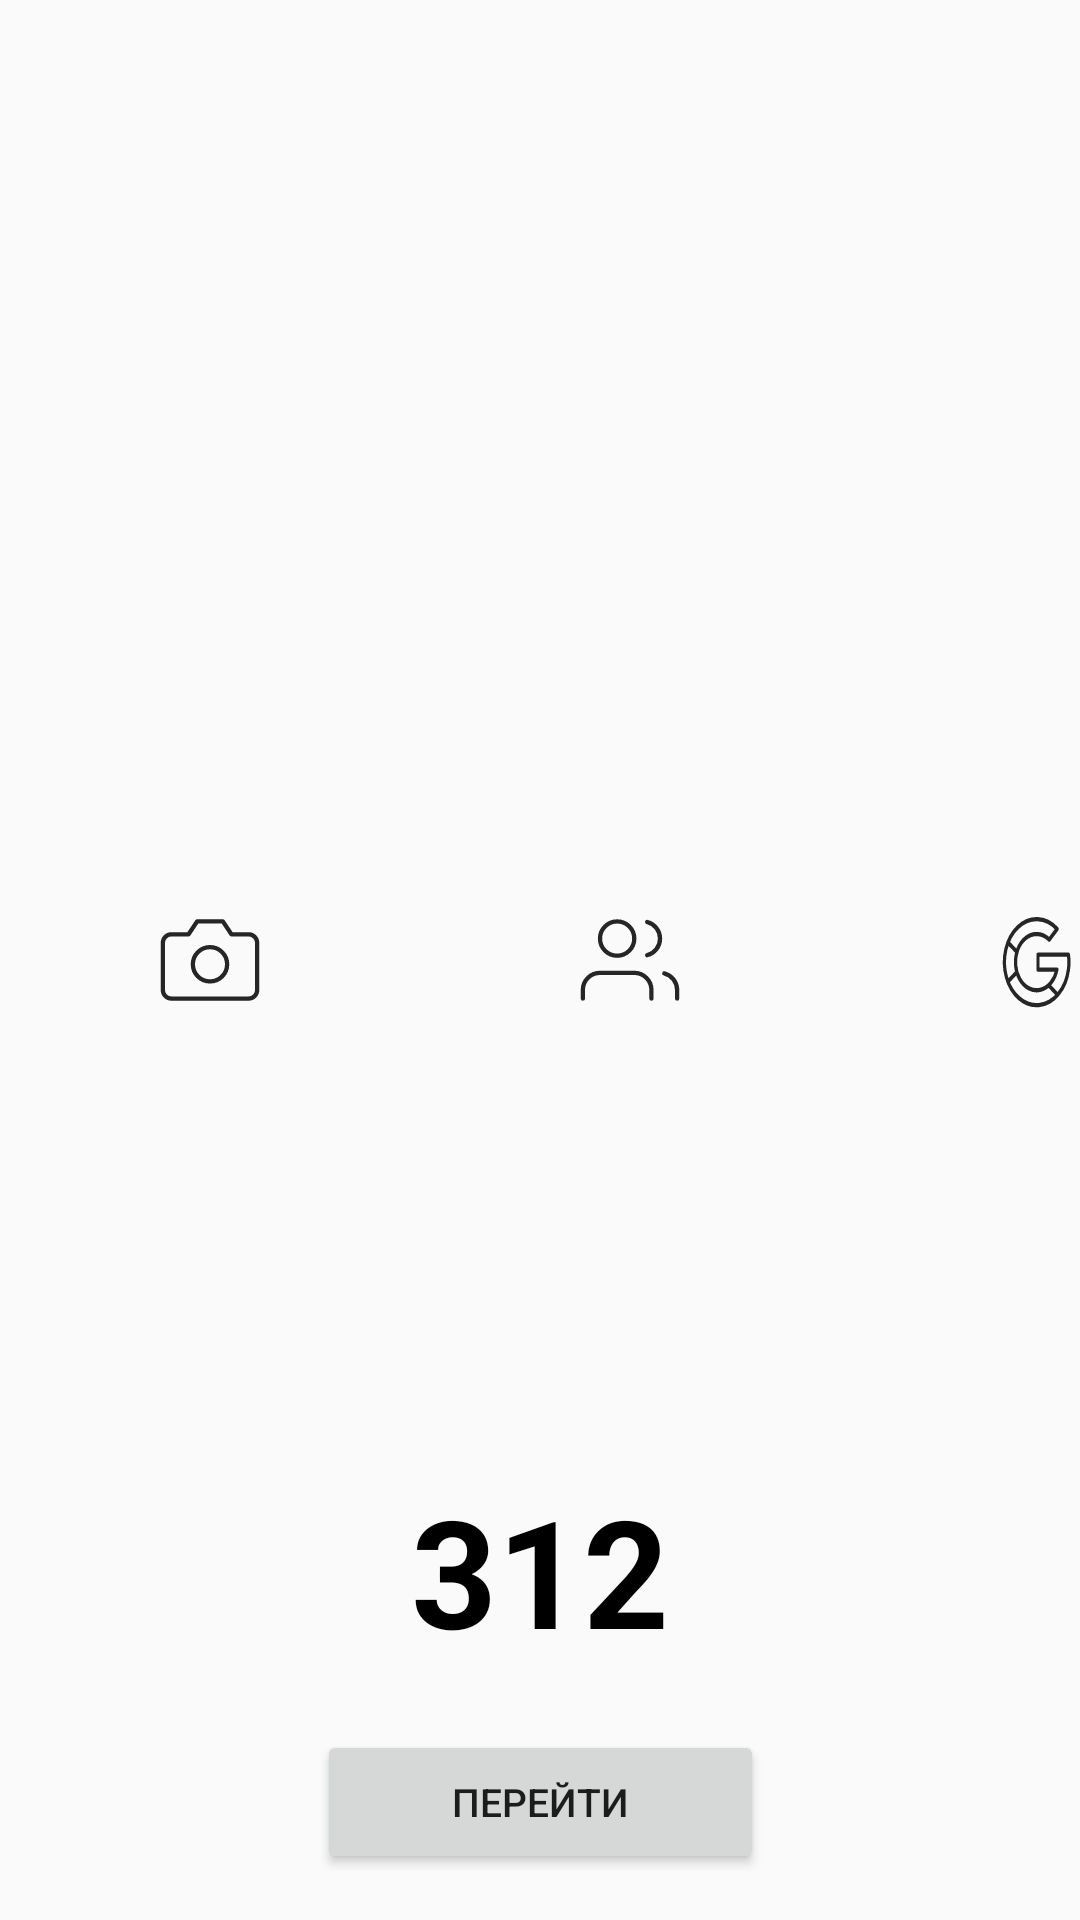

Where icons sit on this 1080 x 1920 app screen, as (x1, y1, x2, y2):
camera: (160, 919, 260, 1001)
contacts: (580, 919, 680, 1001)
